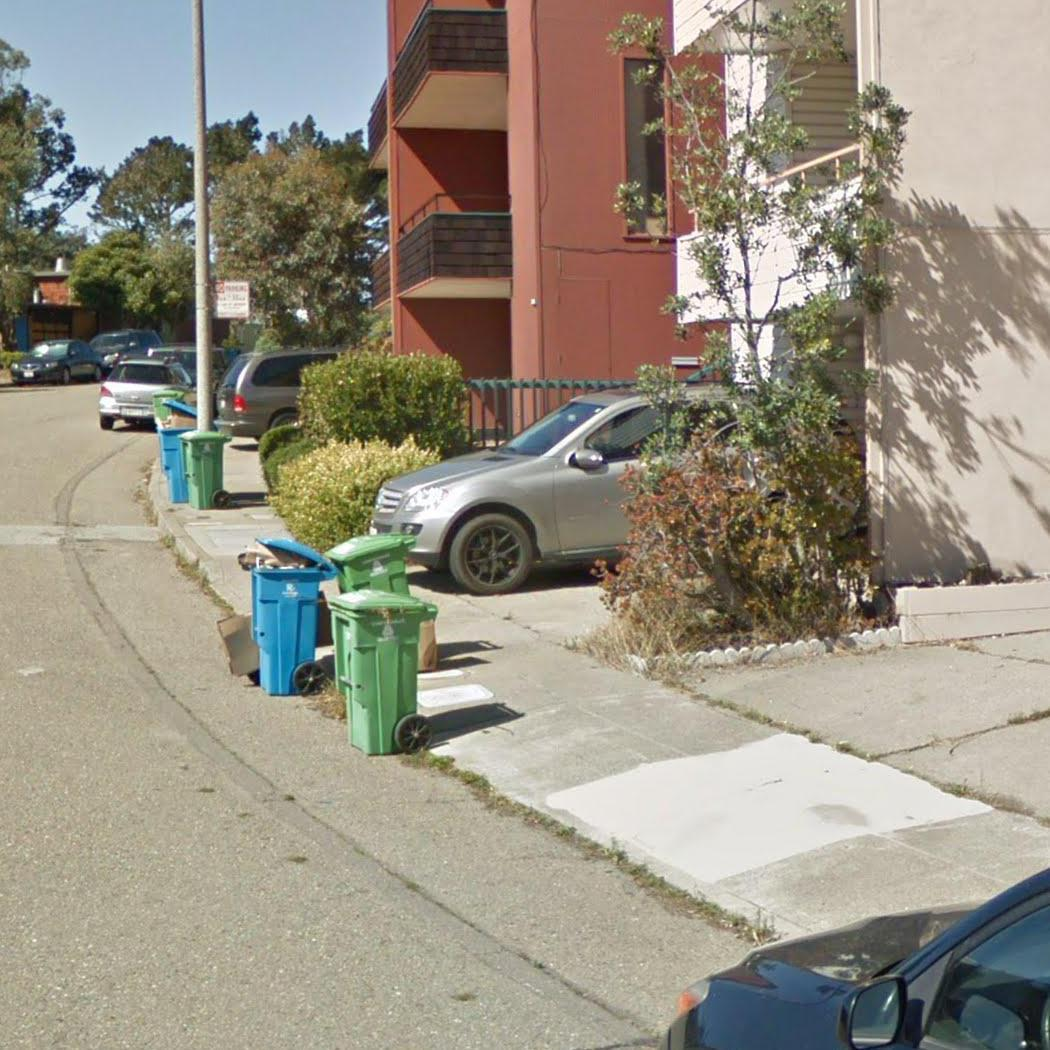No Parking: (210, 278, 252, 323)
